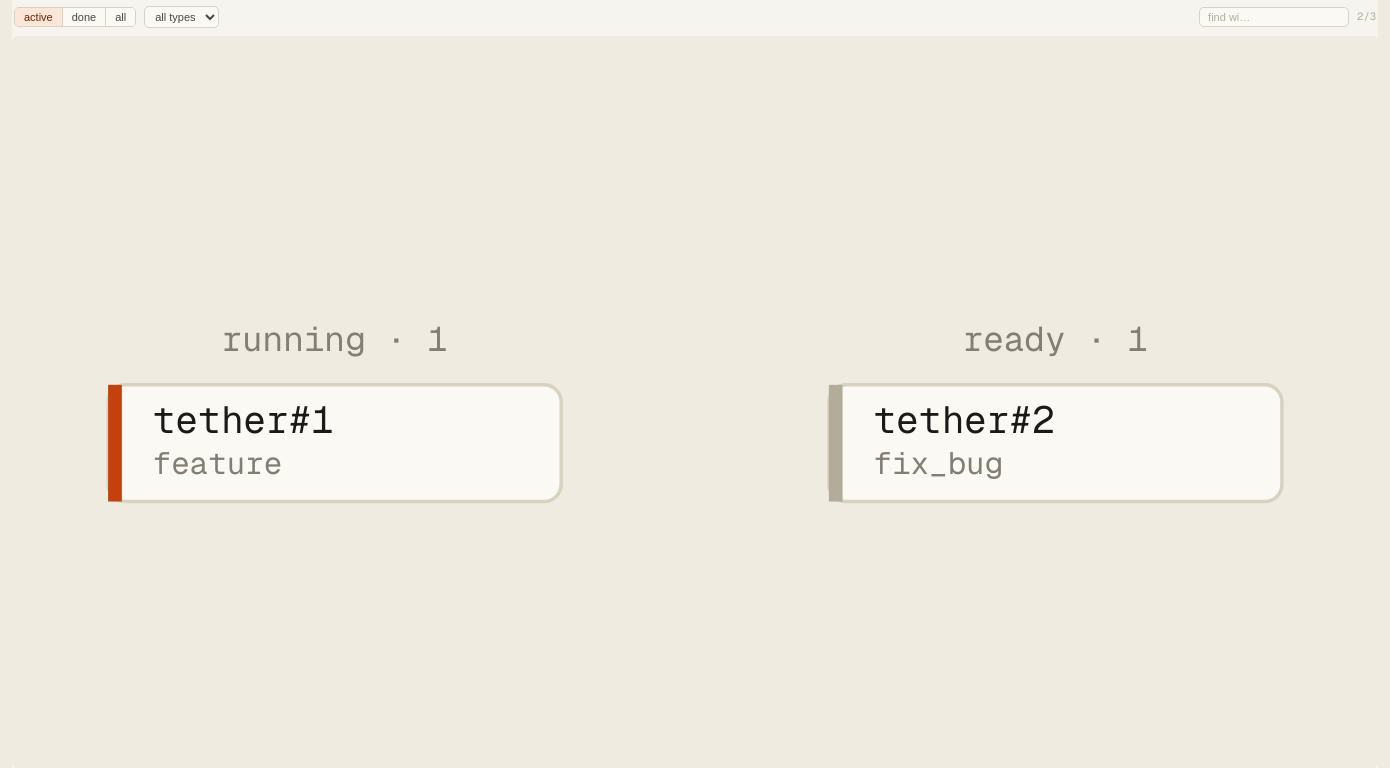
Test: WorkGraphView search wiring (tether#29 behaviour, tether#90 wiring) › Escape clears the query, the dimming and the counter
Expected: the text "tether#1" is shown, x1=153 y1=395 x2=334 y2=444
Step 1. Type "#2" into the field with class "fg-search-input" → {"x": 1274, "y": 17}, box x1=1199 y1=7 x2=1349 y2=27
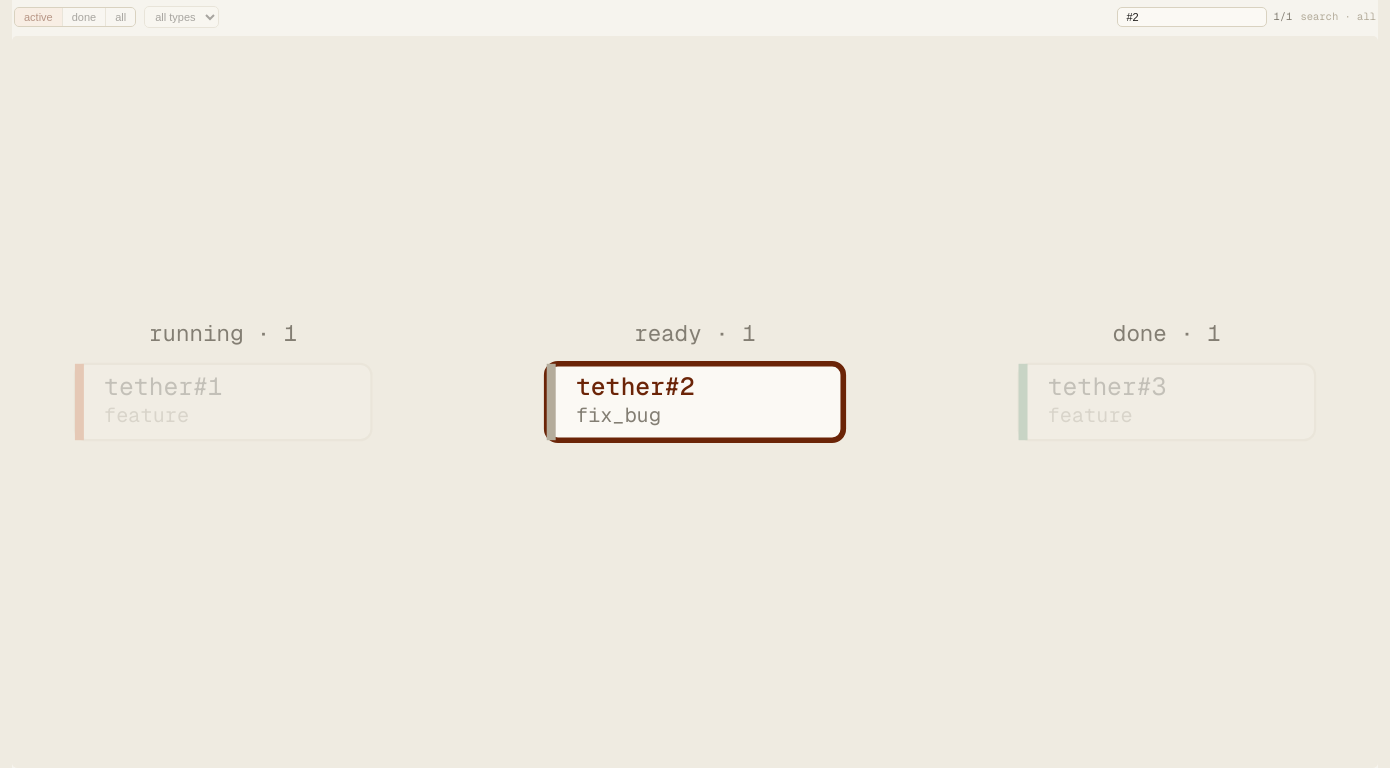
Expected: the element with class "fg-node-dim" is shown, x1=104 y1=370 x2=223 y2=428
Step 2. Press Escape in the field with class "fg-search-input", box x1=1118 y1=7 x2=1268 y2=27
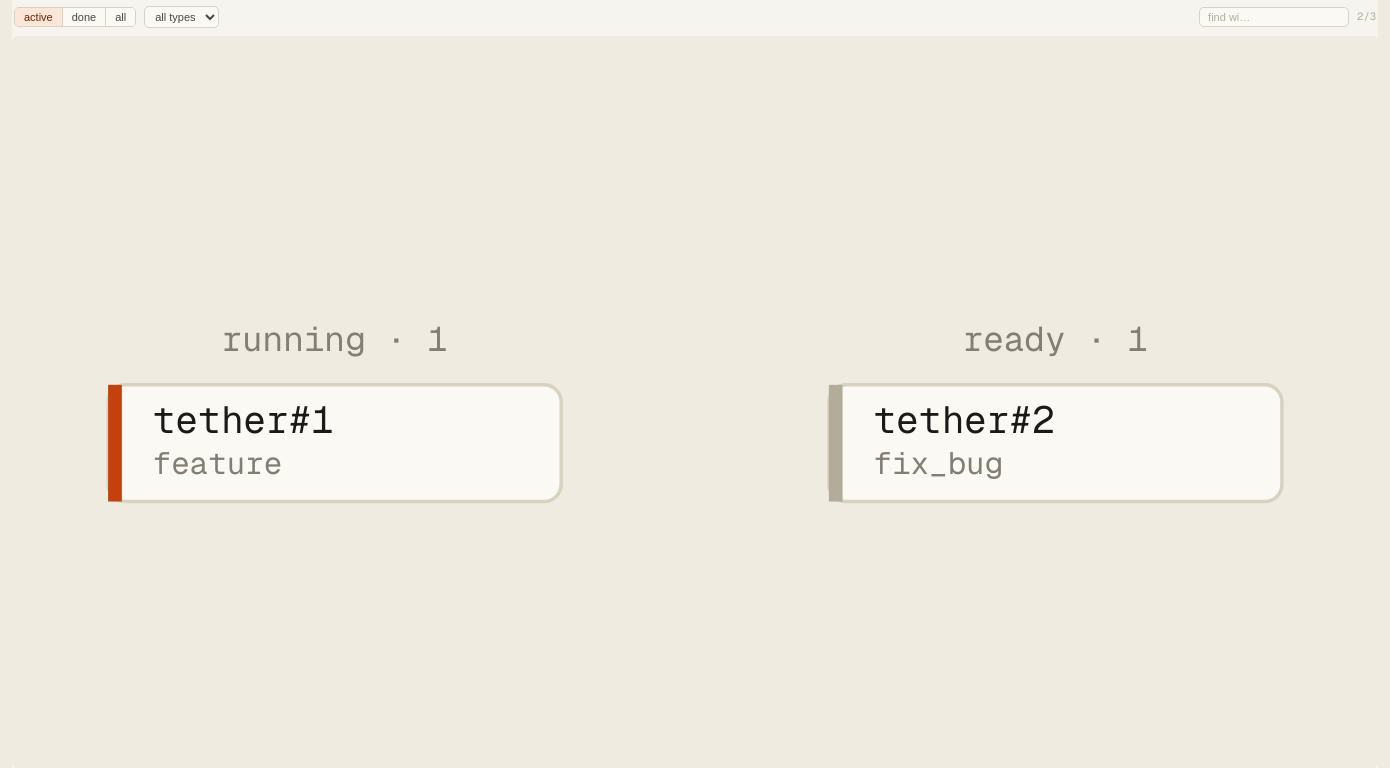
Expected: the field with class "fg-search-input" is empty, x1=1199 y1=7 x2=1349 y2=27
Expected: the text with class "fg-search-count" is gone
